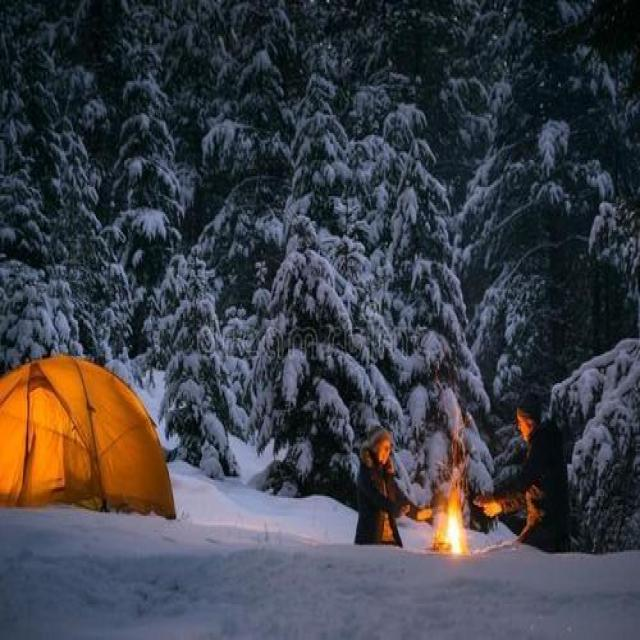fire: (418, 449, 492, 569)
other: (8, 332, 178, 516)
